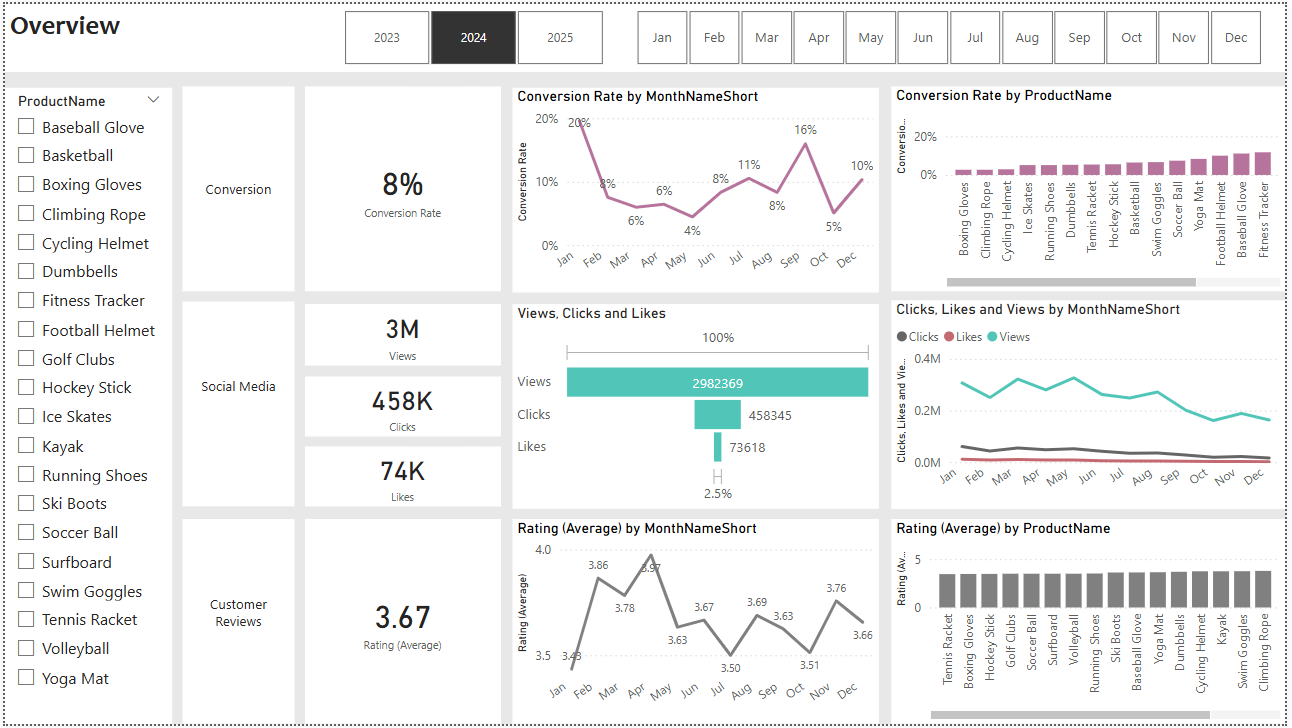

Layout of this report page (visuals, bound fields, positions):
{"tool":"powerbi","page":{"name":"Overview ","canvas":[1280,720],"ordinal":0},"visuals":[{"type":"textbox","box":[0,0,1280.3,67.8],"z":0},{"type":"textbox","box":[177.8,82.2,112,204.7],"z":1000},{"type":"textbox","box":[177.8,297.3,112,204.7],"z":2000},{"type":"textbox","box":[177.8,515.4,112,204.7],"z":3000},{"type":"card","fields":{"Values":["_Calculations.Conversion rate"]},"box":[300.3,82.2,195.7,204.7],"z":4000},{"type":"card","fields":{"Values":["_Calculations.Views"]},"box":[300.3,300.3,195.7,61.3],"z":5000},{"type":"card","fields":{"Values":["_Calculations.Rating (Average)"]},"box":[300.3,515.4,195.7,204.7],"z":6000},{"type":"slicer","fields":{"Values":["dim_products.ProductName"]},"box":[0,83.7,167.3,636.4],"z":7000},{"type":"card","fields":{"Values":["_Calculations.Clicks"]},"box":[300.3,372,195.7,59.8],"z":8000},{"type":"card","fields":{"Values":["_Calculations.Likes"]},"box":[300.3,442.2,195.7,59.8],"z":9000},{"type":"slicer","fields":{"Values":["Calendar.Year"]},"box":[313.7,0,307.8,67.2],"z":10000},{"type":"slicer","fields":{"Values":["Calendar.MonthNameShort"]},"box":[606.5,0,673.8,67.2],"z":11000},{"type":"lineChart","fields":{"Y":["_Calculations.Conversion Rate"],"Category":["Calendar.MonthNameShort"]},"box":[507.9,83.7,366,204.7],"z":12000},{"type":"columnChart","fields":{"Category":["dim_products.ProductName"],"Y":["_Calculations.Conversion Rate"]},"box":[885.9,82.2,394.4,204.7],"z":13000},{"type":"lineChart","fields":{"Category":["Calendar.MonthNameShort"],"Y":["_Calculations.Clicks","_Calculations.Likes","_Calculations.Views"]},"box":[885.9,295.8,394.4,209.2],"z":14000},{"type":"funnel","fields":{"Y":["_Calculations.Views","_Calculations.Clicks","_Calculations.Likes"]},"box":[507.9,300.3,366,204.7],"z":15000},{"type":"lineChart","fields":{"Y":["_Calculations.Rating (Average)"],"Category":["Calendar.MonthNameShort"]},"box":[507.9,515.4,366,204.7],"z":16000},{"type":"clusteredColumnChart","fields":{"Category":["dim_products.ProductName"],"Y":["_Calculations.Rating (Average)"]},"box":[885.9,515.4,394.4,204.7],"z":17000}]}

Visuals, with their boxes in screenshot pixels (x1, y1, x2, y2), scaled from the page's 1280x720 canvas onto the 1292x728 screenshot:
textbox: <region>0, 0, 1291, 69</region>
textbox: <region>179, 83, 293, 290</region>
textbox: <region>179, 301, 293, 508</region>
textbox: <region>179, 521, 293, 727</region>
card - _Calculations.Conversion rate: <region>303, 83, 501, 290</region>
card - _Calculations.Views: <region>303, 304, 501, 366</region>
card - _Calculations.Rating (Average): <region>303, 521, 501, 727</region>
slicer - dim_products.ProductName: <region>0, 85, 169, 727</region>
card - _Calculations.Clicks: <region>303, 376, 501, 437</region>
card - _Calculations.Likes: <region>303, 447, 501, 508</region>
slicer - Calendar.Year: <region>317, 0, 627, 68</region>
slicer - Calendar.MonthNameShort: <region>612, 0, 1291, 68</region>
lineChart - _Calculations.Conversion Rate x Calendar.MonthNameShort: <region>513, 85, 882, 292</region>
columnChart - dim_products.ProductName x _Calculations.Conversion Rate: <region>894, 83, 1291, 290</region>
lineChart - Calendar.MonthNameShort x _Calculations.Clicks: <region>894, 299, 1291, 511</region>
funnel - _Calculations.Views x _Calculations.Clicks: <region>513, 304, 882, 511</region>
lineChart - _Calculations.Rating (Average) x Calendar.MonthNameShort: <region>513, 521, 882, 727</region>
clusteredColumnChart - dim_products.ProductName x _Calculations.Rating (Average): <region>894, 521, 1291, 727</region>
